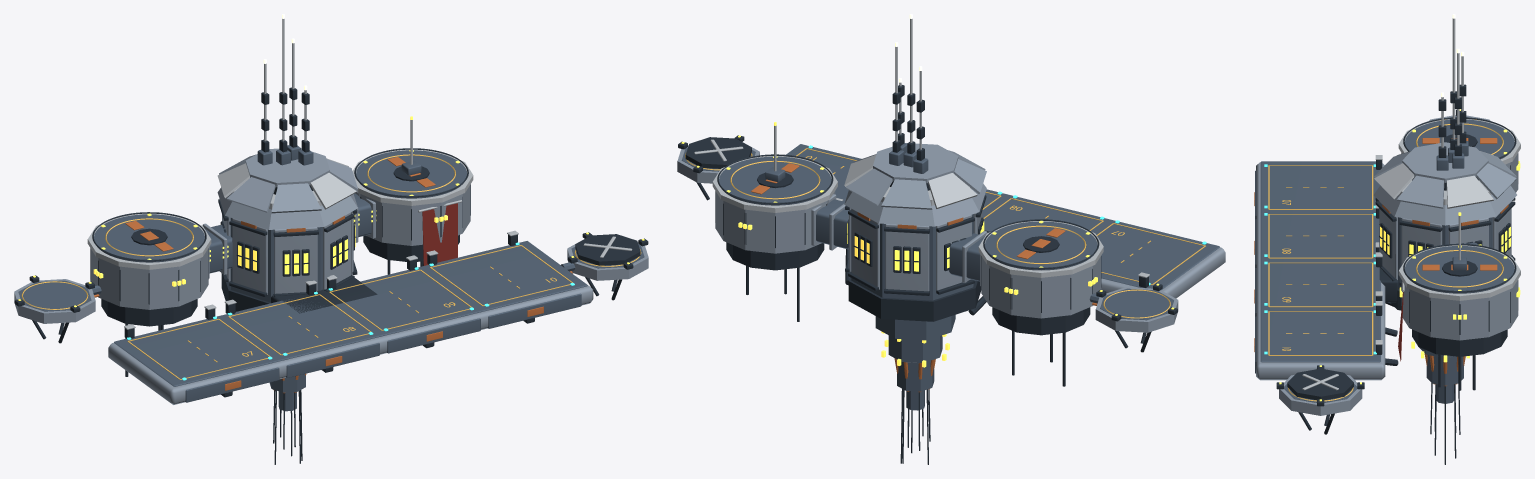
Rendered from station.glb.
3 views of the same model, side by side, from view 1: azimuth 30°, elevation 25°; view 2: azimuth 150°, elevation 25°; view 3: azimuth 270°, elevation 25° (orthographic). The views are drawn at different scales.
Visible parts, largest first — view 1: Dock | inset deck, Pod | armored drum, Dock | slab, Pod | recessed deck, Pod | recessed deck.001, Pod | armored drum.001, Hub | shoulder armor, Hub | face armor 05, Hub | rooftop armor, Socket A | deck, Hub | face armor 04, Banner | hanging pennant (+19 smaller); view 2: Dock | inset deck, Pod | armored drum, Pod | armored drum.001, Pod | recessed deck, Pod | recessed deck.001, Hub | lower collar, Hub | shoulder armor, Hub | face armor 02, Hub | rooftop armor, Socket A | deck, Pod | lower machinery, Pod | lower machinery.001 (+19 smaller); view 3: Dock | inset deck, Pod | armored drum.001, Pod | recessed deck.001, Dock | slab, Hub | shoulder armor, Hub | rooftop armor, Pod | recessed deck, Pod | lower machinery.001, SocketClosure_B_plate, Pod | upper rim.001, Socket B | clamp platform, Hub | segmented crown (+17 smaller).
Part boxes in pixels (x1,y1,x2,y2): Dock | inset deck: (114, 241, 587, 386); Pod | armored drum: (90, 248, 208, 309); Dock | slab: (108, 285, 593, 404); Pod | recessed deck: (94, 214, 204, 262); Pod | recessed deck.001: (356, 150, 467, 198); Pod | armored drum.001: (358, 184, 470, 245); Hub | shoulder armor: (217, 187, 357, 229); Hub | face armor 05: (274, 227, 317, 293); Hub | rooftop armor: (245, 148, 329, 187); Socket A | deck: (18, 280, 91, 311); Hub | face armor 04: (232, 218, 267, 294); Banner | hanging pennant: (422, 203, 457, 265); Dock | inset deck: (786, 144, 1219, 290); Pod | armored drum: (981, 256, 1101, 318); Pod | armored drum.001: (715, 191, 835, 253); Pod | recessed deck: (985, 221, 1097, 270); Pod | recessed deck.001: (719, 156, 831, 205); Hub | lower collar: (848, 277, 981, 321); Hub | shoulder armor: (844, 183, 986, 226); Hub | face armor 02: (885, 224, 929, 291); Hub | rooftop armor: (873, 143, 958, 183); Socket A | deck: (1100, 288, 1173, 320); Pod | lower machinery: (992, 307, 1090, 335); Pod | lower machinery.001: (726, 242, 824, 270); Dock | inset deck: (1260, 161, 1380, 362); Pod | armored drum.001: (1401, 280, 1518, 340); Pod | recessed deck.001: (1405, 246, 1514, 293); Dock | slab: (1256, 162, 1385, 380); Hub | shoulder armor: (1373, 185, 1516, 225); Hub | rooftop armor: (1402, 142, 1488, 182); Pod | recessed deck: (1405, 119, 1514, 159); Pod | lower machinery.001: (1412, 329, 1507, 356); SocketClosure_B_plate: (1287, 368, 1353, 400); Pod | upper rim.001: (1398, 245, 1520, 300); Socket B | clamp platform: (1279, 375, 1362, 415); Hub | segmented crown: (1446, 175, 1493, 208).
Size of the model in its own units: 22.21 by 17.02 by 9.27.
